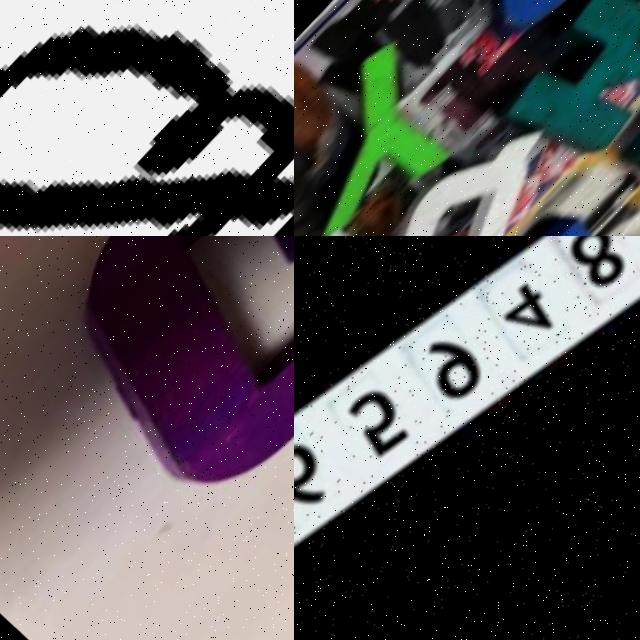4: (473, 264, 588, 382)
5: (319, 366, 444, 493)
6: (294, 414, 372, 552)
8: (538, 236, 640, 331)
9: (392, 310, 520, 441)
B: (0, 31, 294, 236)
G: (27, 236, 294, 531)
K: (489, 0, 640, 192)
Q: (334, 105, 584, 236)
Y: (294, 27, 491, 236)
